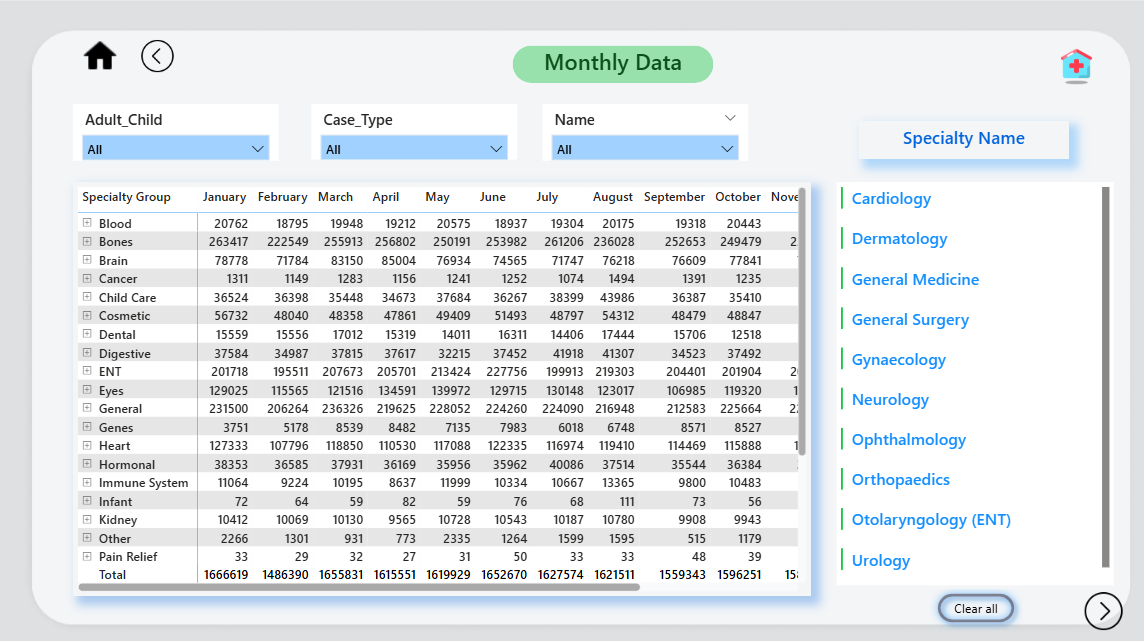

This screenshot's page, from the dashboard's own definition file:
{"tool":"powerbi","page":{"name":"Monthly Data","canvas":[1280,720],"ordinal":2},"visuals":[{"type":"image","box":[10,0,1270,720],"z":0},{"type":"pivotTable","fields":{"Rows":["Mapping_Specialty.Specialty Group","Hospital data.Adult_Child","Hospital data.Case_Type"],"Columns":["Hospital data.Archive_Date.Variation.Date Hierarchy.Month"],"Values":["measurs.Total Patient"]},"box":[100.4,207.3,796.7,446.9],"z":1},{"type":"multiRowCard","fields":{"Values":["Hospital data.Specialty_Name"]},"box":[924.6,207.3,299.6,435.6],"z":2},{"type":"slicer","fields":{"Values":["Dis Name MH.Name"]},"box":[607.2,123.1,221.8,61.5],"z":5},{"type":"slicer","fields":{"Values":["Hospital data.Adult_Child"]},"box":[100.4,123.1,221.8,61.5],"z":6},{"type":"slicer","fields":{"Values":["Hospital data.Case_Type"]},"box":[357.8,123.1,221.8,59.9],"z":7},{"type":"textbox","box":[948.9,140.9,226.7,42.1],"z":8},{"type":"image","box":[1127,55.1,113.3,51.8],"z":9},{"type":"textbox","box":[555.4,55.1,255.8,51.8],"z":10},{"type":"shape","box":[574.8,59.9,217,40.5],"z":11},{"type":"image","box":[1185.3,642.8,55.1,55.1],"z":12},{"type":"image","box":[105.2,47,48.6,48.6],"z":13},{"type":"image","box":[161.9,47,59.9,48.6],"z":14},{"type":"actionButton","box":[1025,642.8,100.4,48.6],"z":15}]}

Visuals, with their boxes in screenshot pixels (x1, y1, x2, y2), scaled from the page's 1280x720 canvas onto the 1144x641 screenshot:
image: region(9, 0, 1143, 640)
pivotTable - Mapping_Specialty.Specialty Group x Hospital data.Adult_Child: region(90, 185, 802, 582)
multiRowCard - Hospital data.Specialty_Name: region(826, 185, 1094, 572)
slicer - Dis Name MH.Name: region(543, 110, 741, 164)
slicer - Hospital data.Adult_Child: region(90, 110, 288, 164)
slicer - Hospital data.Case_Type: region(320, 110, 518, 163)
textbox: region(848, 125, 1051, 163)
image: region(1007, 49, 1109, 95)
textbox: region(496, 49, 725, 95)
shape: region(514, 53, 708, 89)
image: region(1059, 572, 1109, 621)
image: region(94, 42, 137, 85)
image: region(145, 42, 198, 85)
actionButton: region(916, 572, 1006, 616)
